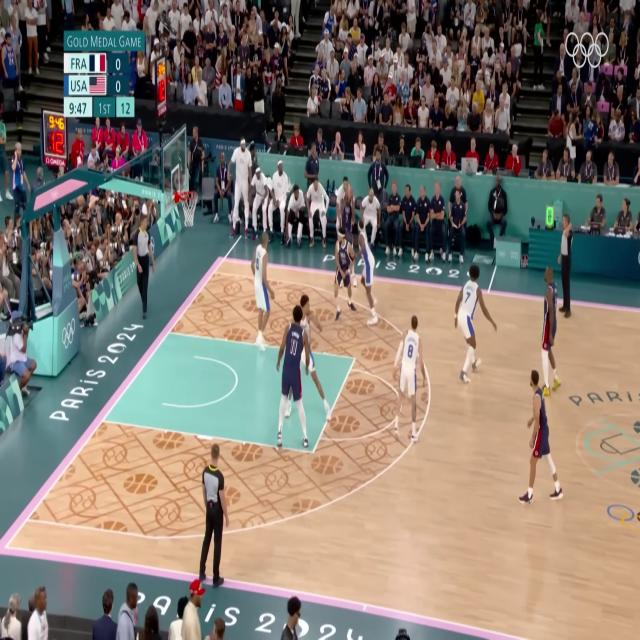ball-handler: (342, 178, 383, 325)
player: (516, 366, 570, 506), (446, 255, 500, 392), (290, 286, 332, 438), (388, 306, 427, 448), (276, 294, 309, 460), (242, 225, 279, 355), (531, 263, 568, 390), (327, 222, 357, 323)
